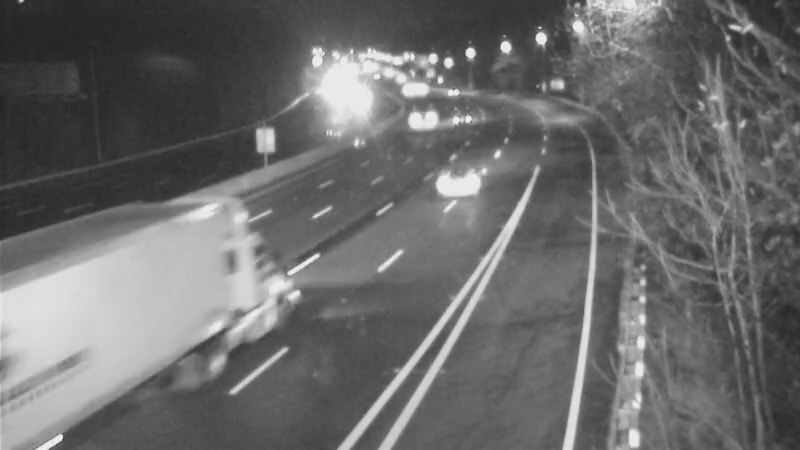vehicle: (15, 287, 125, 397), (418, 146, 498, 226), (381, 63, 431, 113), (428, 68, 478, 118), (434, 87, 484, 137), (393, 95, 443, 145), (329, 80, 379, 130)
